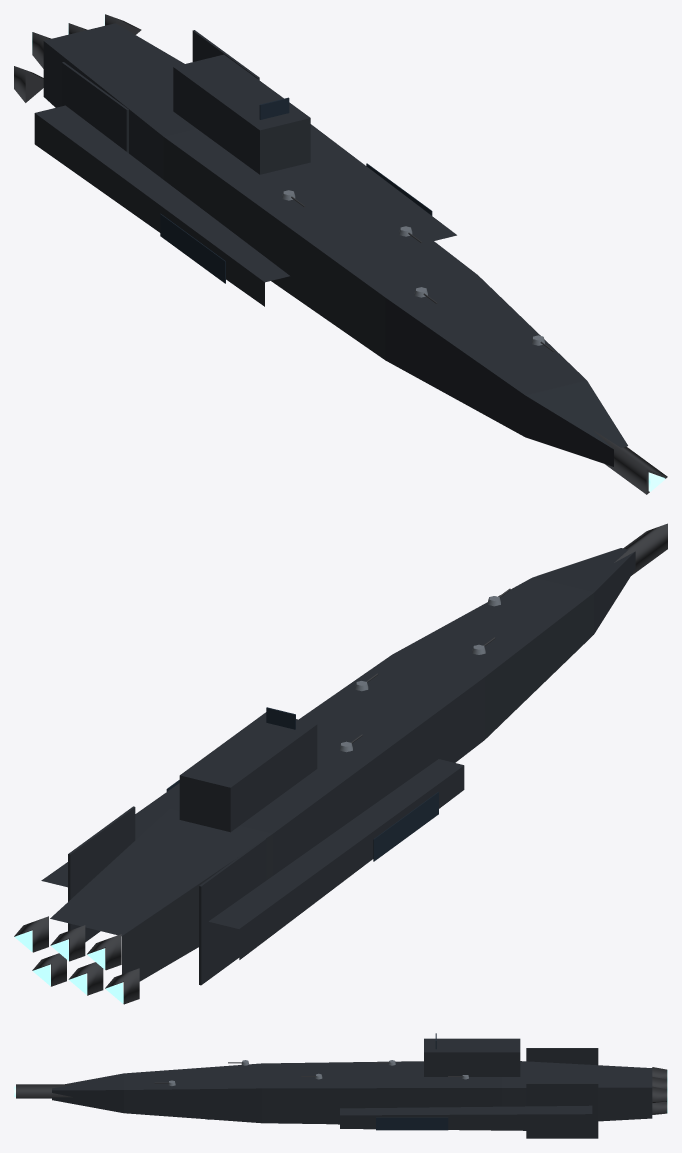
The model's file is space_ship_battleship_mk4_lod2.glb.
3 renders of one model, top to bottom at view 1: azimuth 30°, elevation 25°; view 2: azimuth 150°, elevation 25°; view 3: azimuth 270°, elevation 25°, orthographic. The views are drawn at different scales.
Parts seen in each view (by area): view 1: body, hangar_r, main_gun, engine_0; view 2: body, hangar_r, main_gun, engine_3, engine_1, engine_0, engine_5, engine_2, engine_4; view 3: body, hangar_l, main_gun, engine_5, engine_4.
Boxes of the visible parts, x1,y1,x2,y2 form: body: (34,23,627,466); hangar_r: (160,213,225,283); main_gun: (593,430,667,494); engine_0: (14,66,43,102); body: (41,548,635,985); hangar_r: (373,792,438,861); main_gun: (614,523,667,575); engine_3: (50,925,85,961); engine_1: (87,934,121,970); engine_0: (105,968,139,1004); engine_5: (14,916,48,952); engine_2: (68,962,103,995); engine_4: (32,953,66,986); body: (52,1033,652,1138); hangar_l: (376,1117,448,1130); main_gun: (14,1084,74,1098); engine_5: (652,1086,667,1103); engine_4: (652,1101,667,1114).
Bounding box in the file's own units: 28.5 × 19.82 × 141.
